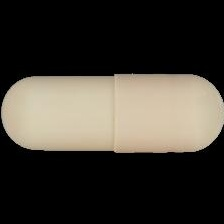0093-3109: (0, 0, 224, 224)
